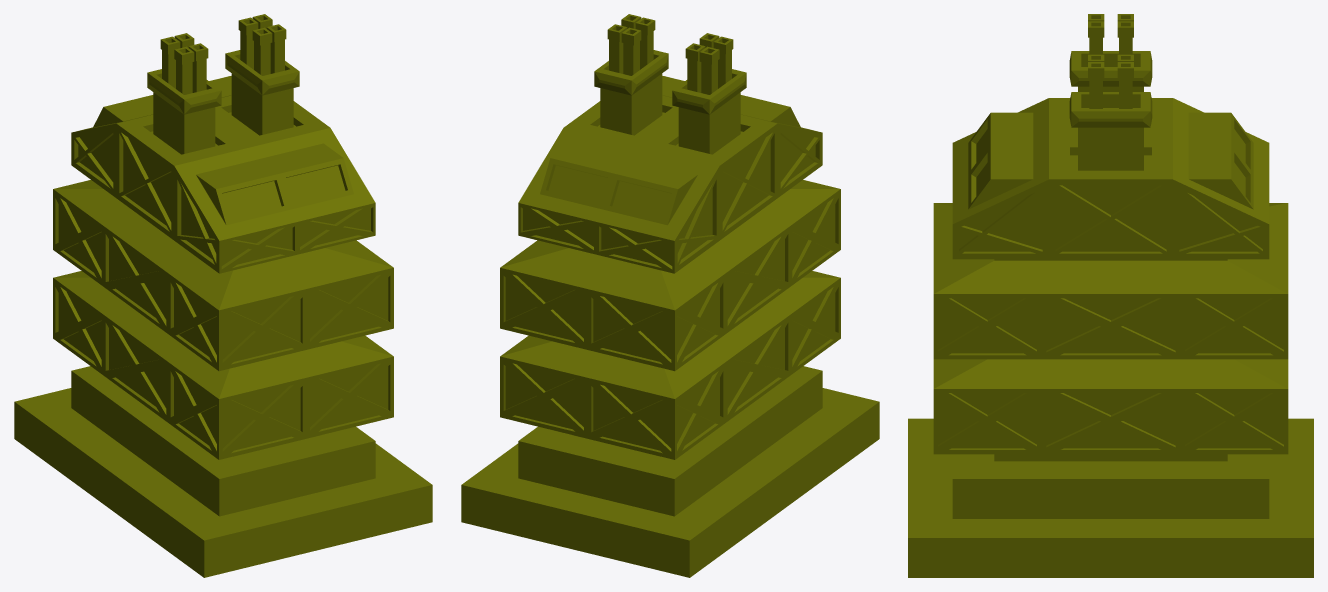
The model's file is PF_Factory_00_2023-10-28.fbx.
3 views of the same model, side by side, from view 1: azimuth 30°, elevation 25°; view 2: azimuth 150°, elevation 25°; view 3: azimuth 270°, elevation 25° (orthographic). The views are drawn at different scales.
Parts seen in each view (by area): view 1: industrial 2.006; view 2: industrial 2.006; view 3: industrial 2.006.
Part boxes in pixels (x1,y1,x2,y2): industrial 2.006: (14, 14, 432, 577); industrial 2.006: (461, 14, 879, 577); industrial 2.006: (908, 14, 1313, 577).
Bounding box in the file's own units: 417 × 778 × 600.
